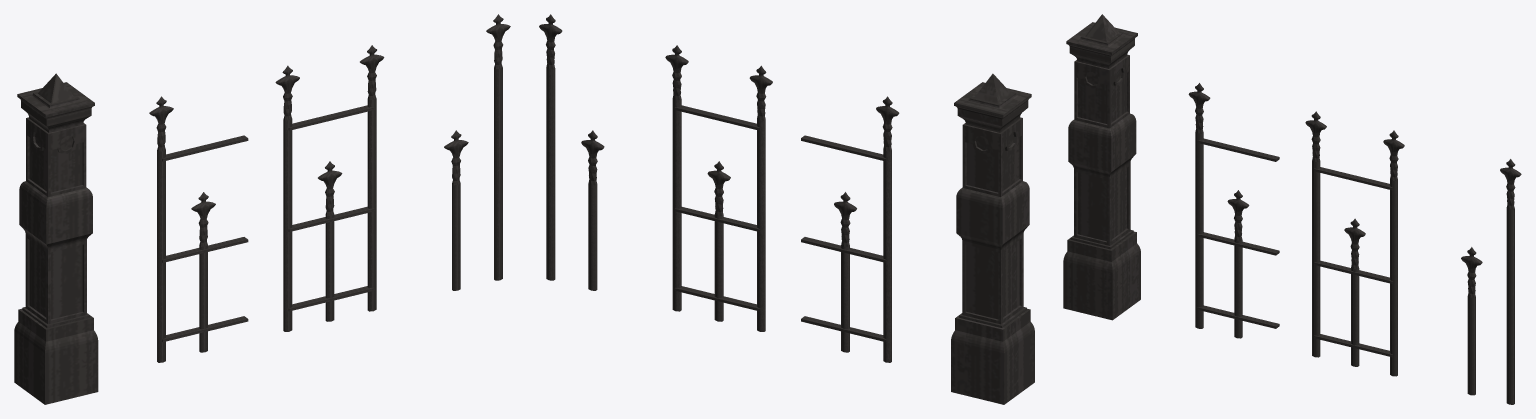
3 renders of one model, left to right at view 1: azimuth 30°, elevation 25°; view 2: azimuth 150°, elevation 25°; view 3: azimuth 330°, elevation 25°, orthographic. The views are drawn at different scales.
Parts seen in each view (by area): view 1: Metal_Fence_Corner_5, Metal_Fence_Part_Closed_0, Metal_Fence_Part_Open_4, Metal_Fence_poll_Tall_2, Metal_Fence_Poll_Short_1; view 2: Metal_Fence_Corner_5, Metal_Fence_Part_Closed_0, Metal_Fence_Part_Open_4, Metal_Fence_poll_Tall_2, Metal_Fence_Poll_Short_1; view 3: Metal_Fence_Corner_5, Metal_Fence_Part_Closed_0, Metal_Fence_Part_Open_4, Metal_Fence_poll_Tall_2, Metal_Fence_Poll_Short_1.
Boxes of the visible parts, x1,y1,x2,y2 form: Metal_Fence_Corner_5: (14, 73, 98, 404); Metal_Fence_Part_Closed_0: (275, 45, 384, 331); Metal_Fence_Part_Open_4: (149, 96, 248, 362); Metal_Fence_poll_Tall_2: (486, 14, 510, 280); Metal_Fence_Poll_Short_1: (444, 130, 468, 290); Metal_Fence_Corner_5: (951, 73, 1034, 404); Metal_Fence_Part_Closed_0: (665, 45, 772, 331); Metal_Fence_Part_Open_4: (801, 96, 899, 362); Metal_Fence_poll_Tall_2: (539, 14, 562, 280); Metal_Fence_Poll_Short_1: (581, 130, 604, 290); Metal_Fence_Corner_5: (1063, 14, 1140, 320); Metal_Fence_Part_Closed_0: (1305, 111, 1404, 376); Metal_Fence_Part_Open_4: (1188, 83, 1279, 338); Metal_Fence_poll_Tall_2: (1500, 159, 1521, 404); Metal_Fence_Poll_Short_1: (1461, 247, 1482, 395).
Size of the model in its own units: 11.41 by 7.12 by 1.26.
3 materials, 3 textured.
